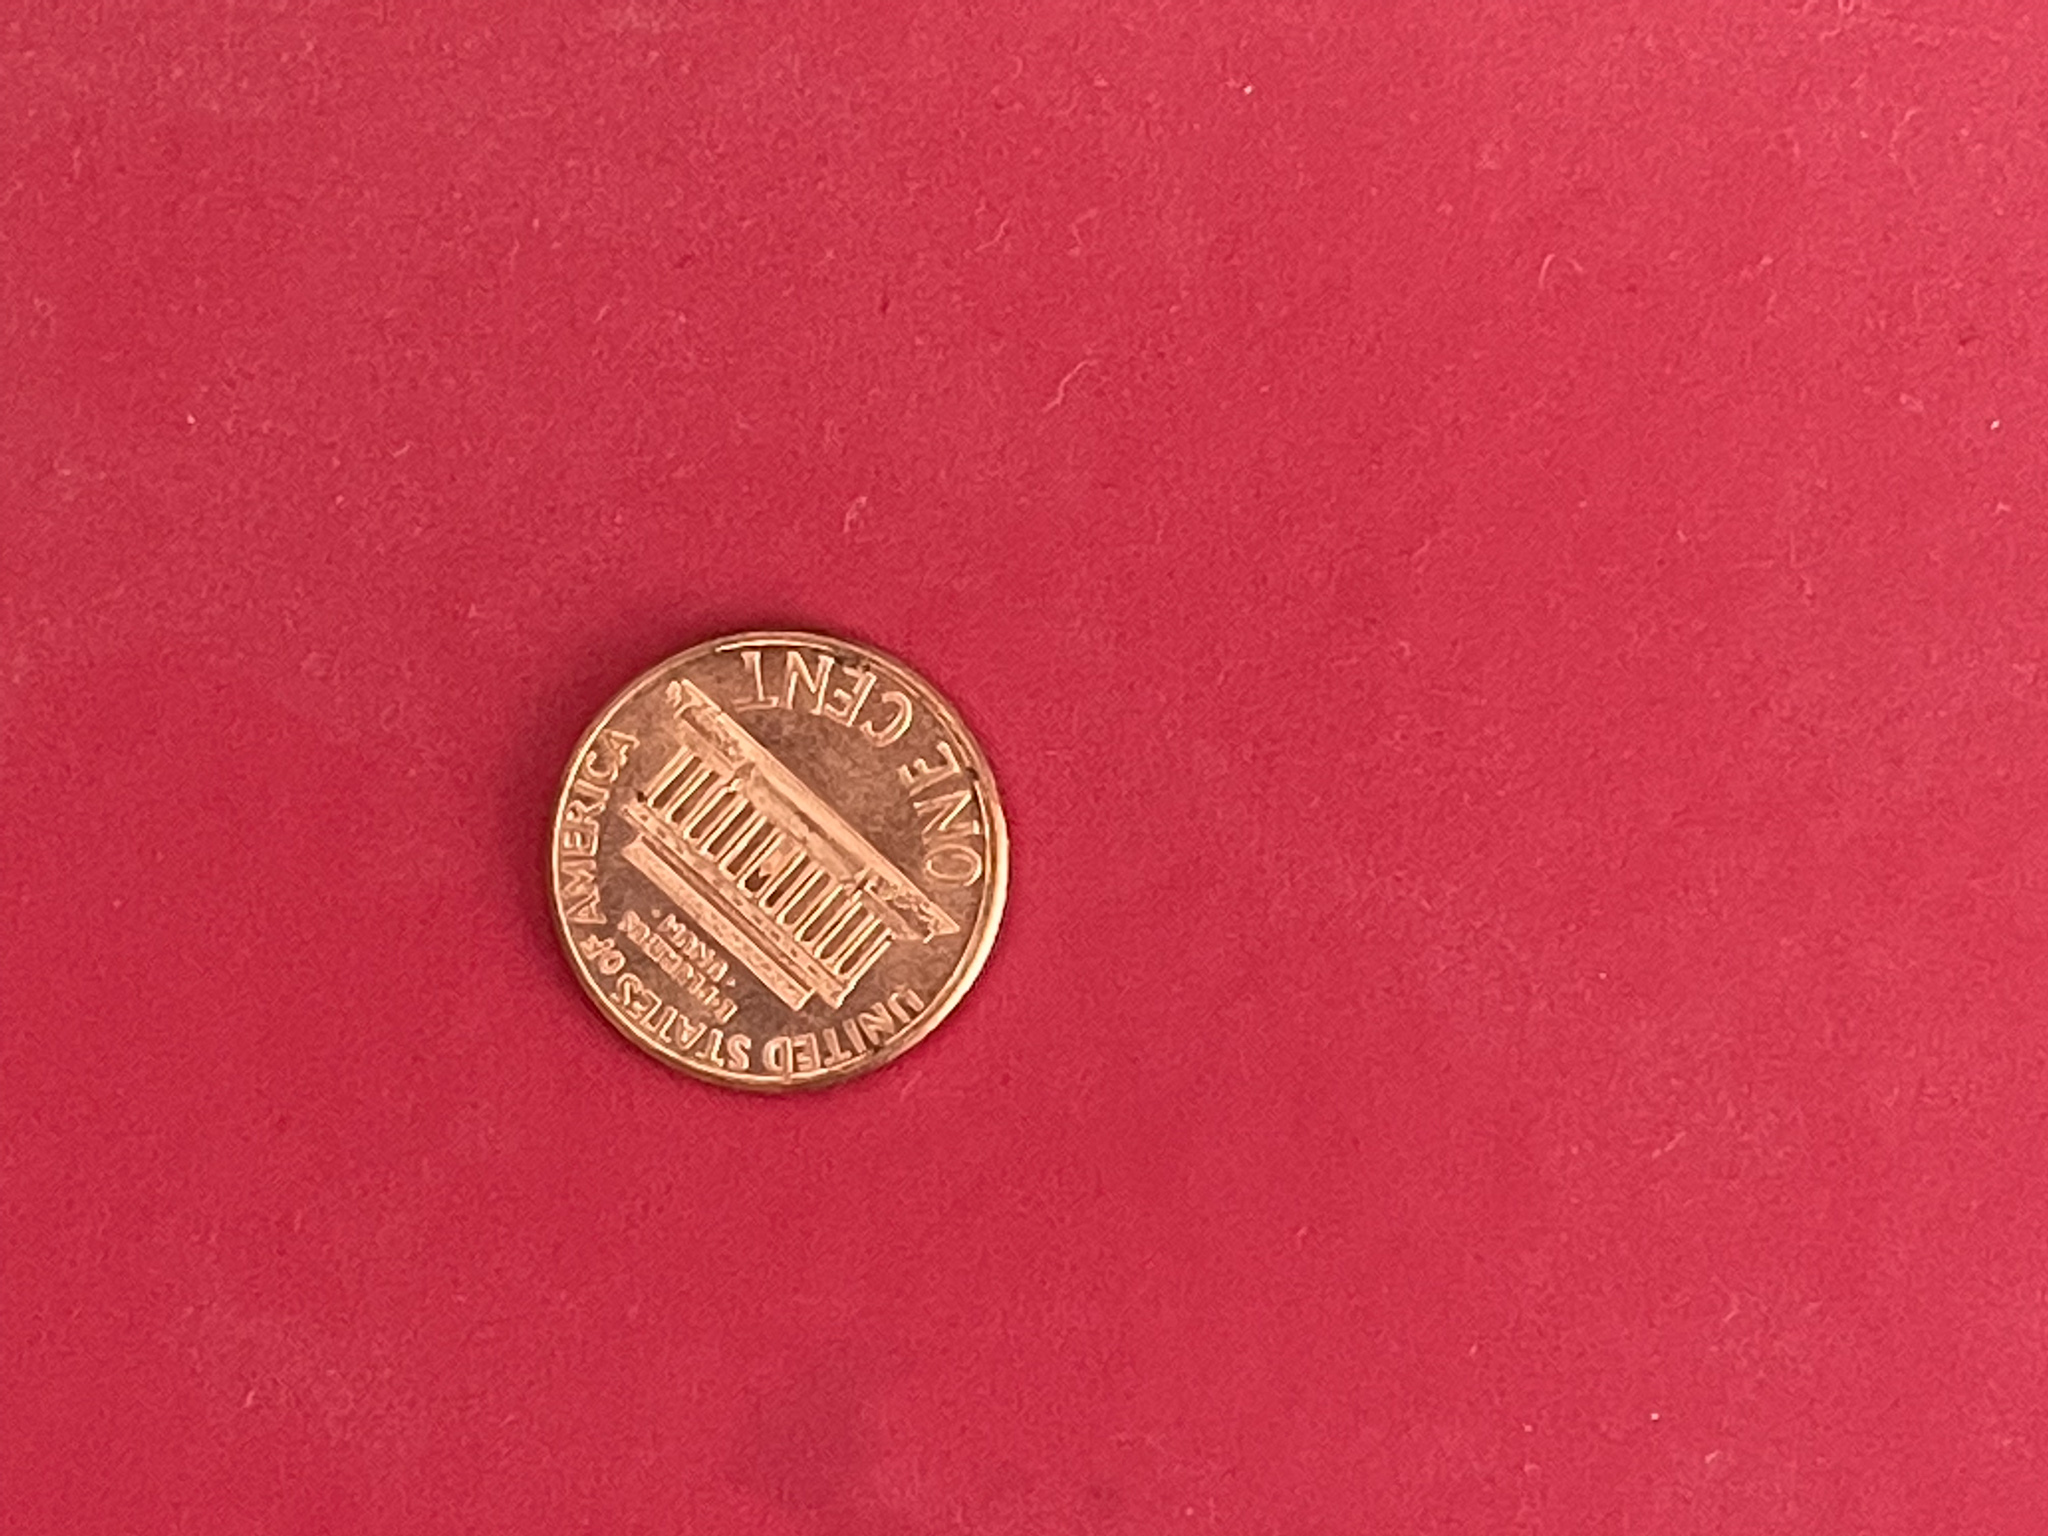penny: (540, 621, 1019, 1099)
